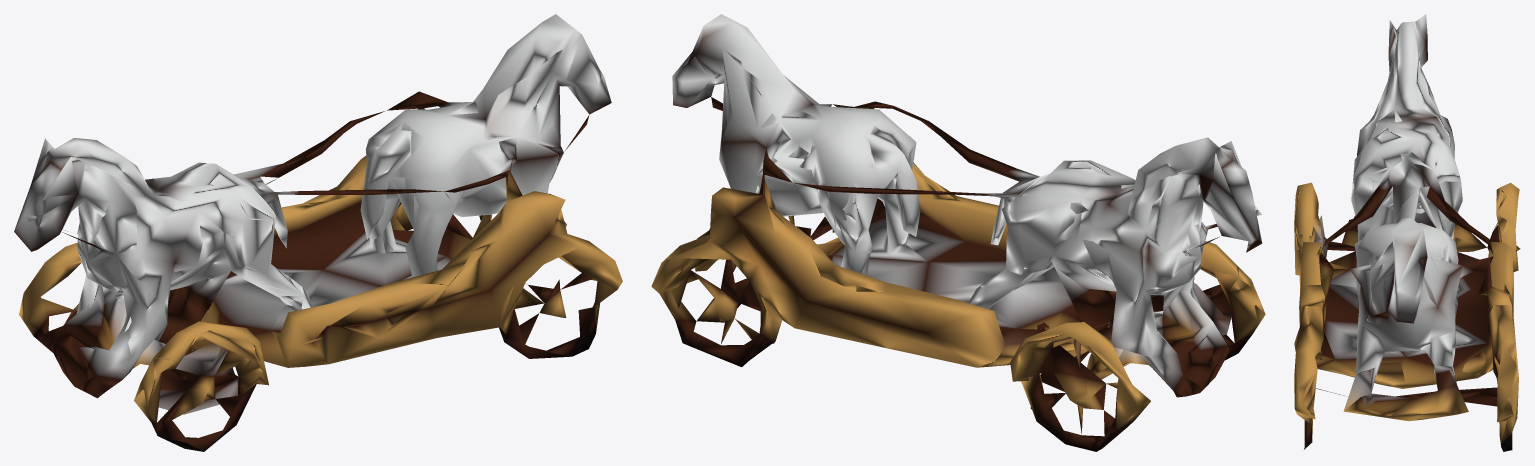
Rendered from gen3d-chariot-lod0.glb.
3 views of the same model, side by side, from view 1: azimuth 30°, elevation 25°; view 2: azimuth 150°, elevation 25°; view 3: azimuth 270°, elevation 25° (orthographic). The views are drawn at different scales.
Visible parts, largest first — view 1: part_0; view 2: part_0; view 3: part_0.
Part boxes in pixels (box(x1,y1,x2,y2)): part_0: box(14, 14, 622, 451); part_0: box(651, 14, 1265, 451); part_0: box(1294, 14, 1520, 451).
Size of the model in its own units: 2.14 by 0.9991 by 0.824.
